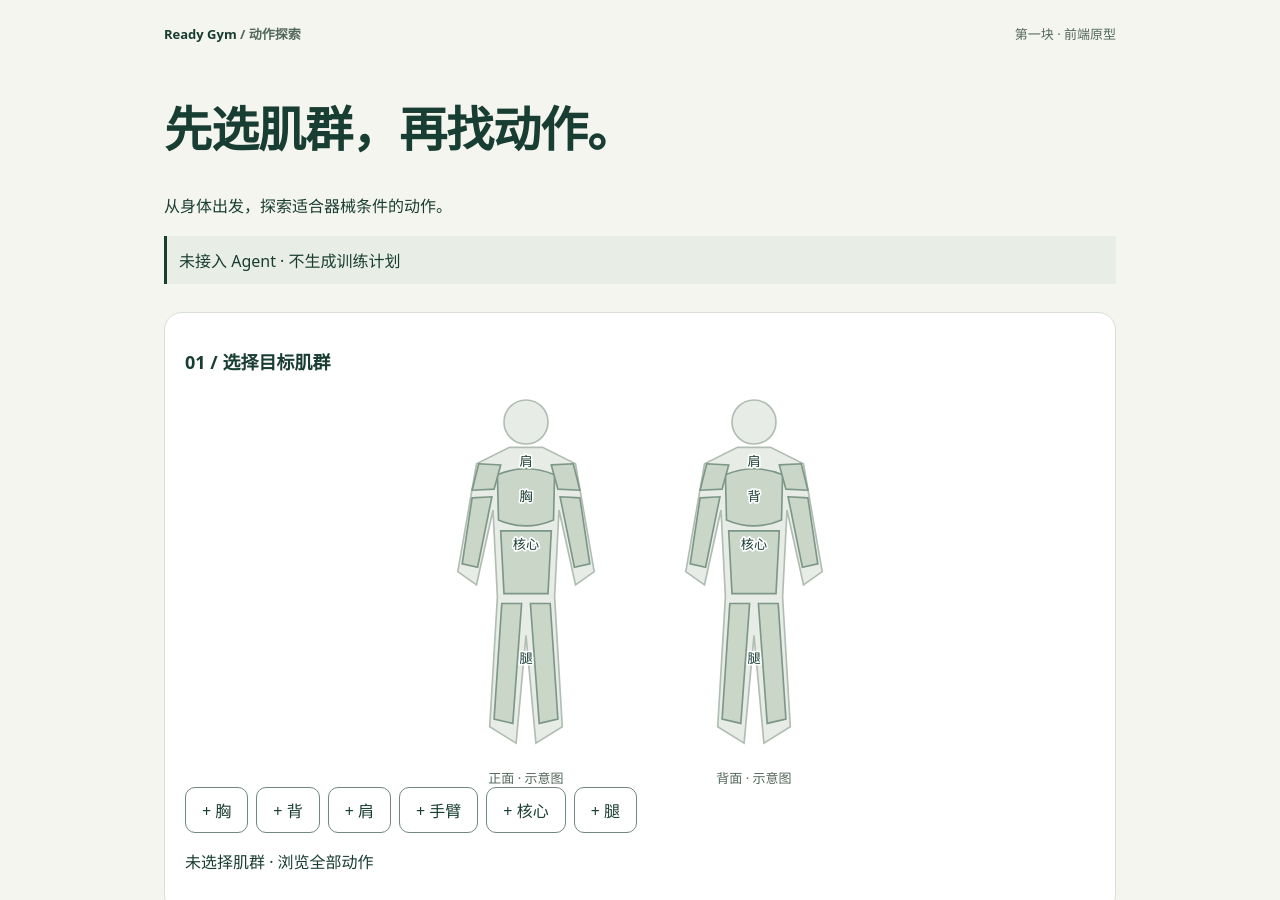
Test: 肌群与动作探索 › 肌群过滤展示匹配动作且多选取并集
Click the button "+ 胸": (217, 810) left=185, top=787, right=248, bottom=833
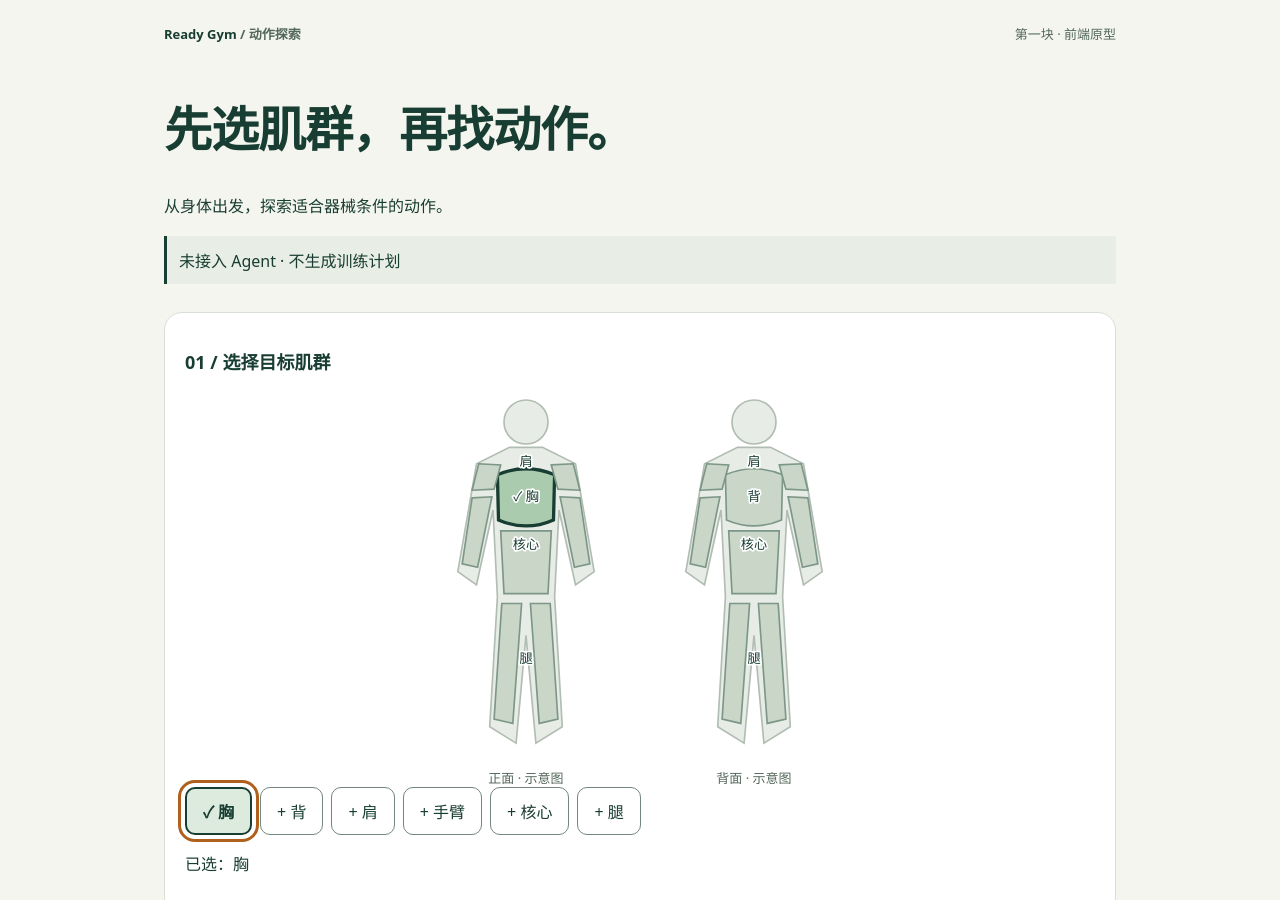
Click the button "+ 腿": (609, 811) left=577, top=787, right=641, bottom=835
(page scrolled)
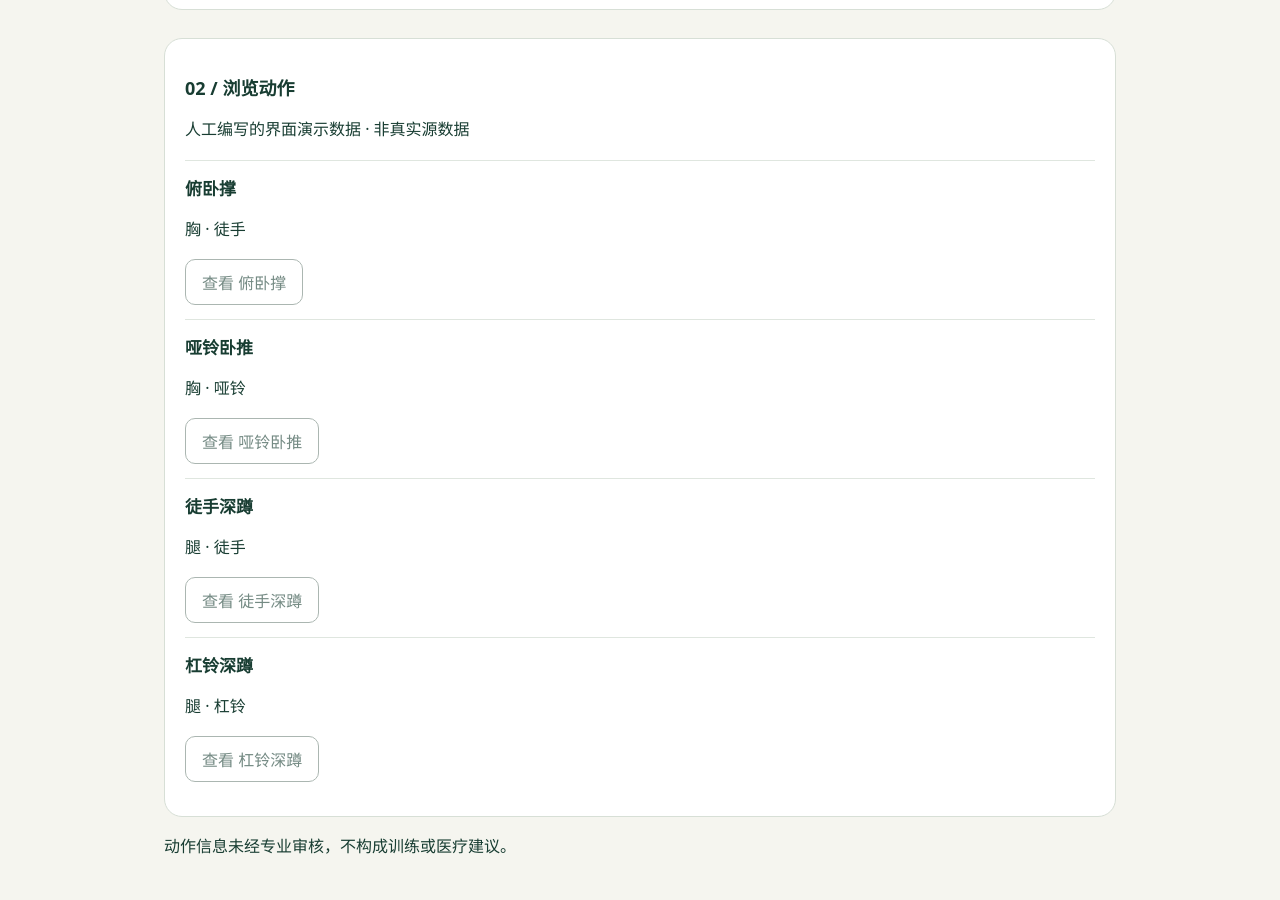
Expected: the button "查看 徒手深蹲" is shown, left=185, top=577, right=319, bottom=623
